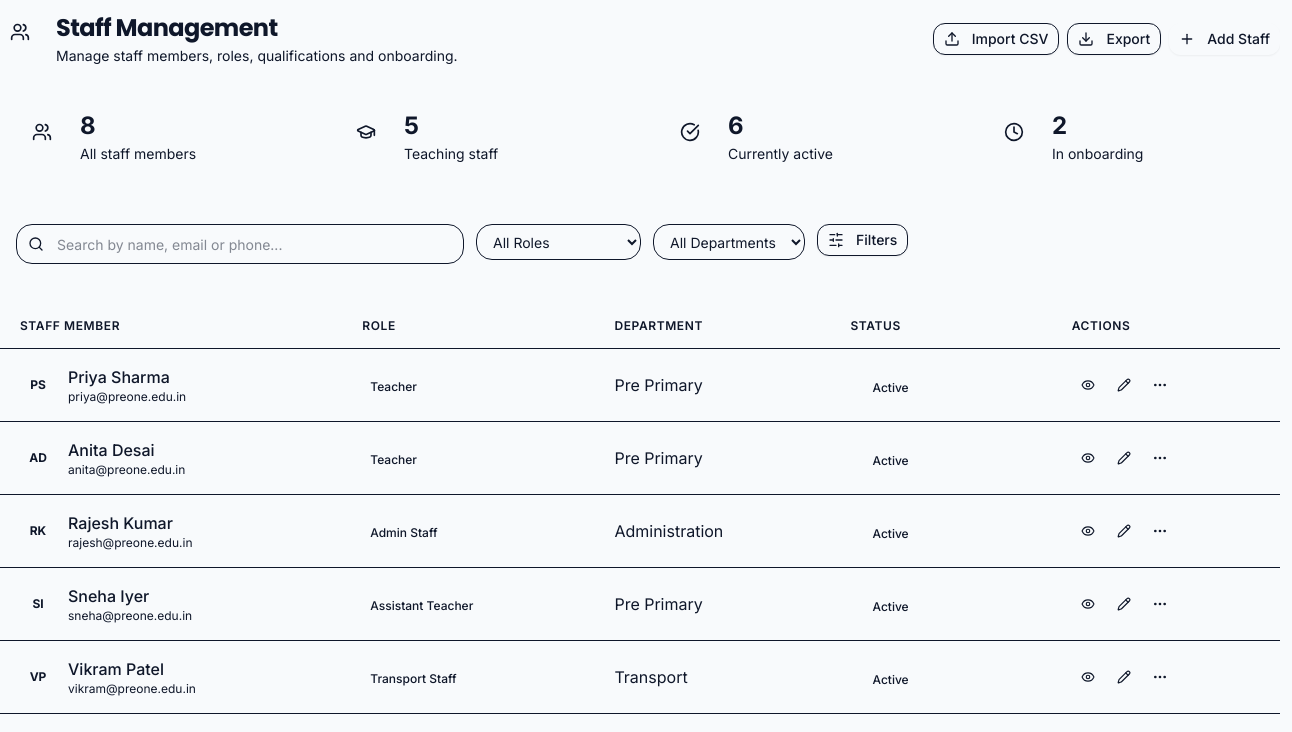
Test case: StaffManagementPage › filters staff by role using dropdown
Select "Admin Staff" in the dropdown showing "All Roles" at (558, 242), box left=476, top=224, right=641, bottom=260
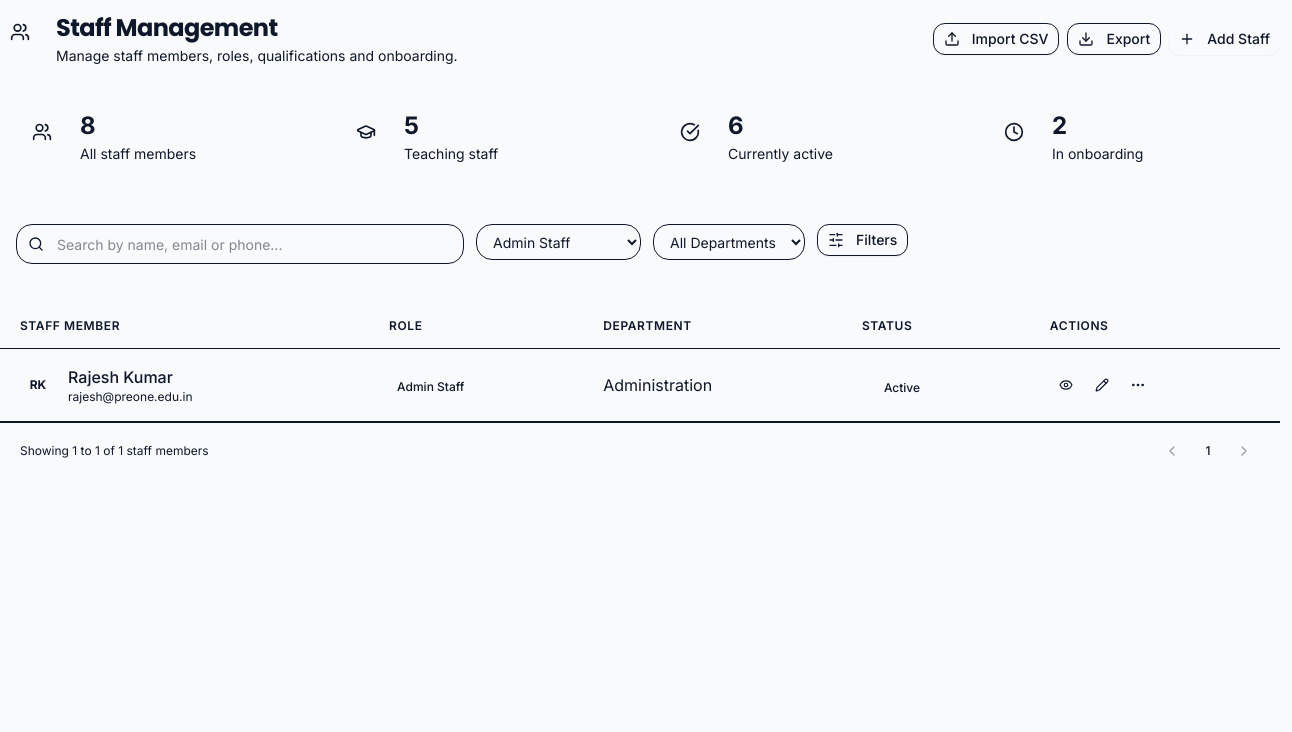
Expected: the text "Rajesh Kumar" is shown, left=68, top=367, right=173, bottom=387
Expected: the text "Priya Sharma" is gone
